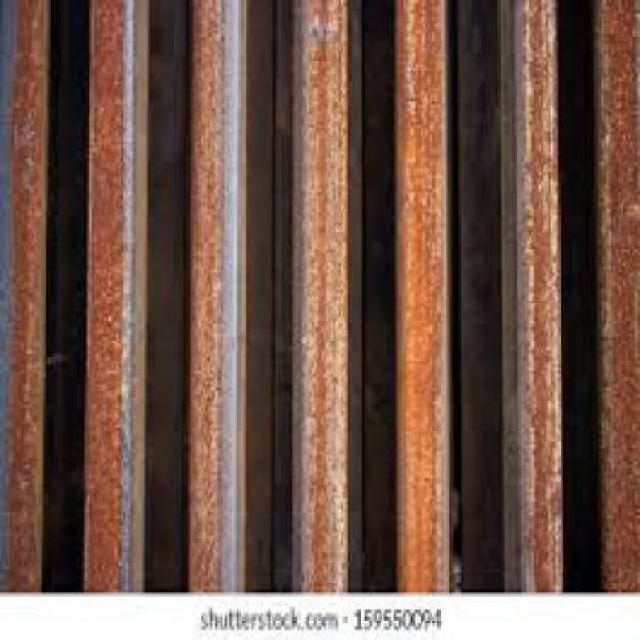defective: (0, 0, 638, 594)
